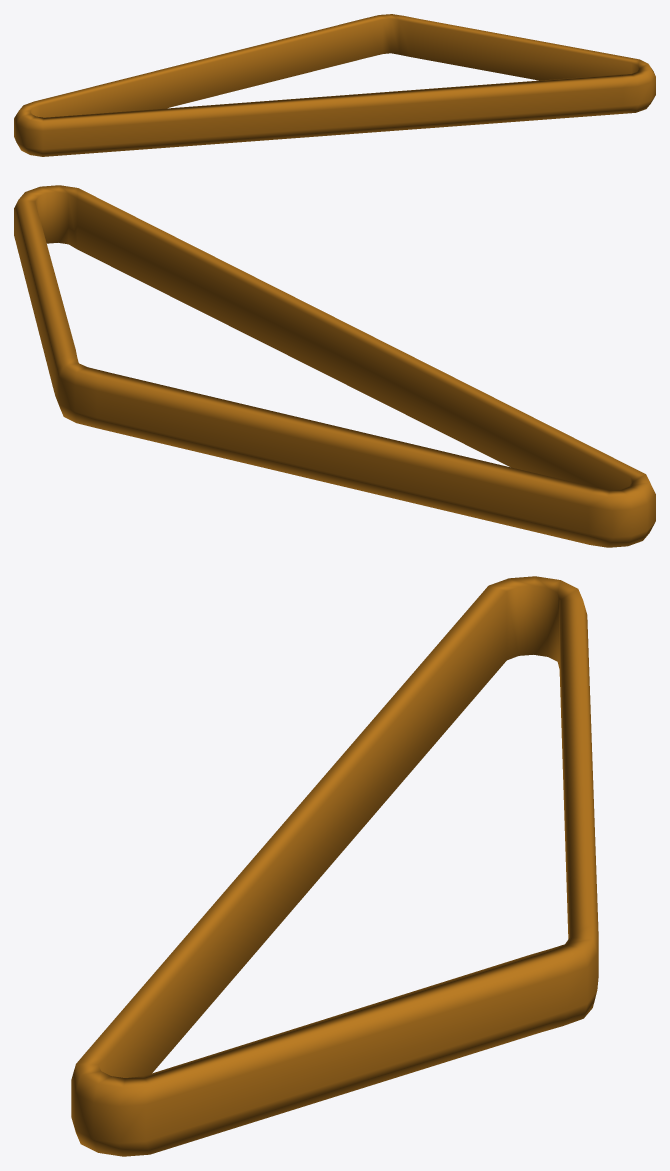
The model's file is Slingshot_Eject_Ball.fbx.
The picture shows the model from 3 angles, top to bottom: view 1: azimuth 30°, elevation 25°; view 2: azimuth 150°, elevation 25°; view 3: azimuth 270°, elevation 25°; orthographic projection. The views are drawn at different scales.
Parts seen in each view (by area): view 1: Slingshot_Eject_Ball; view 2: Slingshot_Eject_Ball; view 3: Slingshot_Eject_Ball.
Part boxes in pixels (bbox=[...]): Slingshot_Eject_Ball: bbox=[14, 14, 655, 156]; Slingshot_Eject_Ball: bbox=[14, 185, 655, 547]; Slingshot_Eject_Ball: bbox=[71, 576, 598, 1156].
Bounding box in the file's own units: 10.47 × 0.6483 × 4.5.
